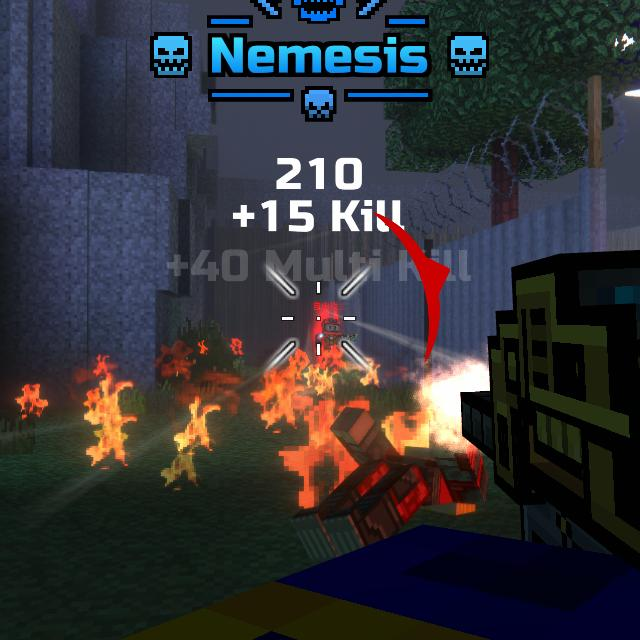Enemy: (315, 318, 341, 370)
